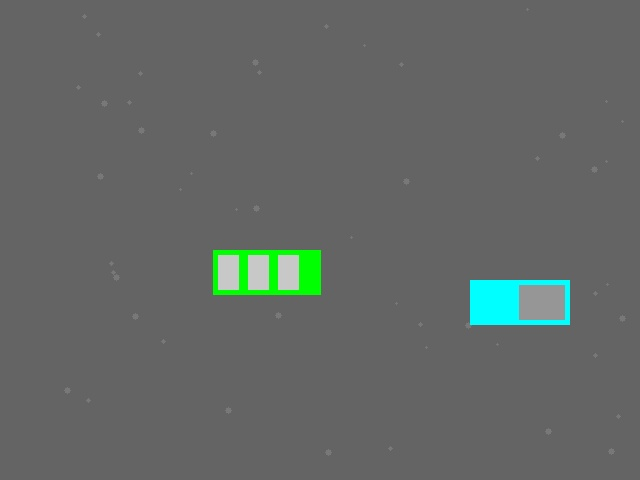bus: (213, 250, 320, 294)
truck: (470, 280, 569, 324)
